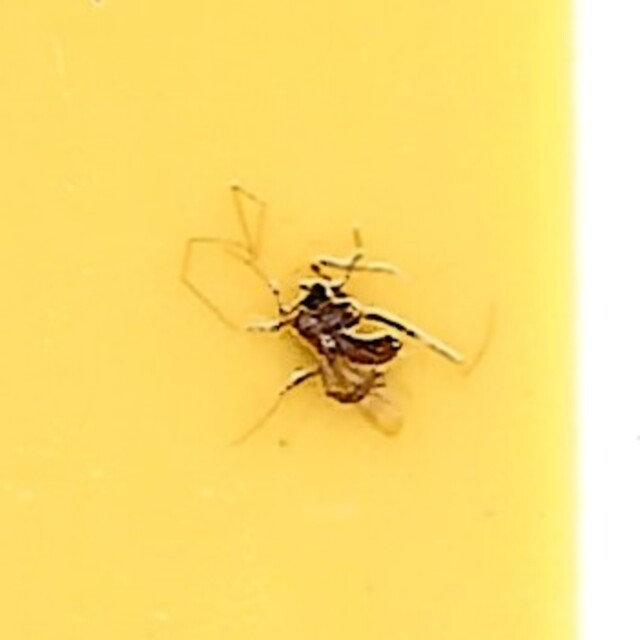Nematocera: (182, 193, 458, 447)
